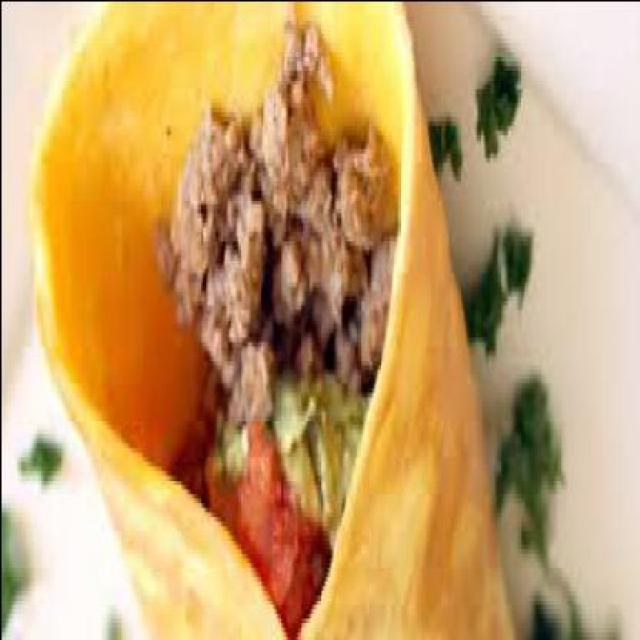BIODEGRADABLE: (29, 4, 511, 638), (154, 18, 392, 424), (182, 368, 366, 534), (216, 433, 330, 639), (156, 111, 244, 335), (246, 24, 331, 211), (275, 351, 357, 529), (492, 382, 562, 580), (198, 184, 262, 387), (232, 437, 298, 612), (356, 227, 392, 396), (332, 128, 382, 248), (277, 534, 334, 638), (198, 424, 250, 530), (223, 327, 272, 438), (472, 60, 518, 175), (267, 230, 310, 350), (302, 253, 361, 336), (466, 243, 502, 354), (531, 594, 615, 638), (1, 509, 28, 638), (428, 120, 464, 189), (332, 332, 363, 401), (17, 442, 58, 493), (505, 225, 530, 308), (288, 336, 324, 392)
